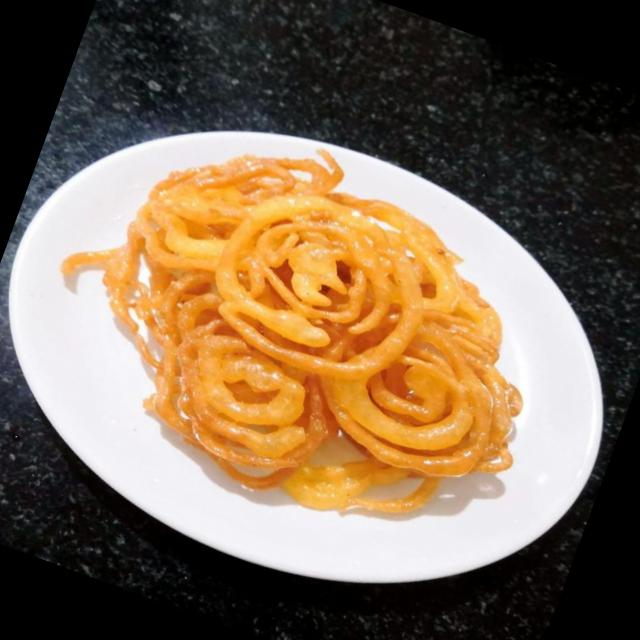jalebi: (42, 127, 568, 546)
